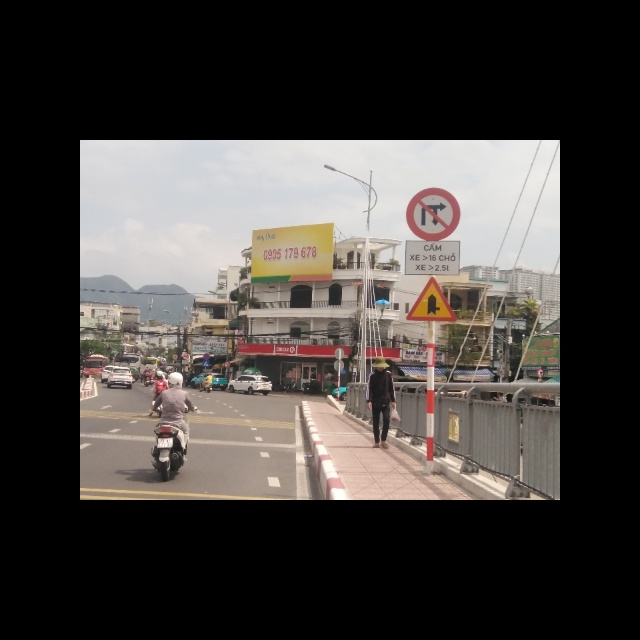Cấm quay đầu và rẽ phải: (405, 187, 459, 241)
Giao nhau với đường không ưu tiên: (405, 276, 457, 323)
